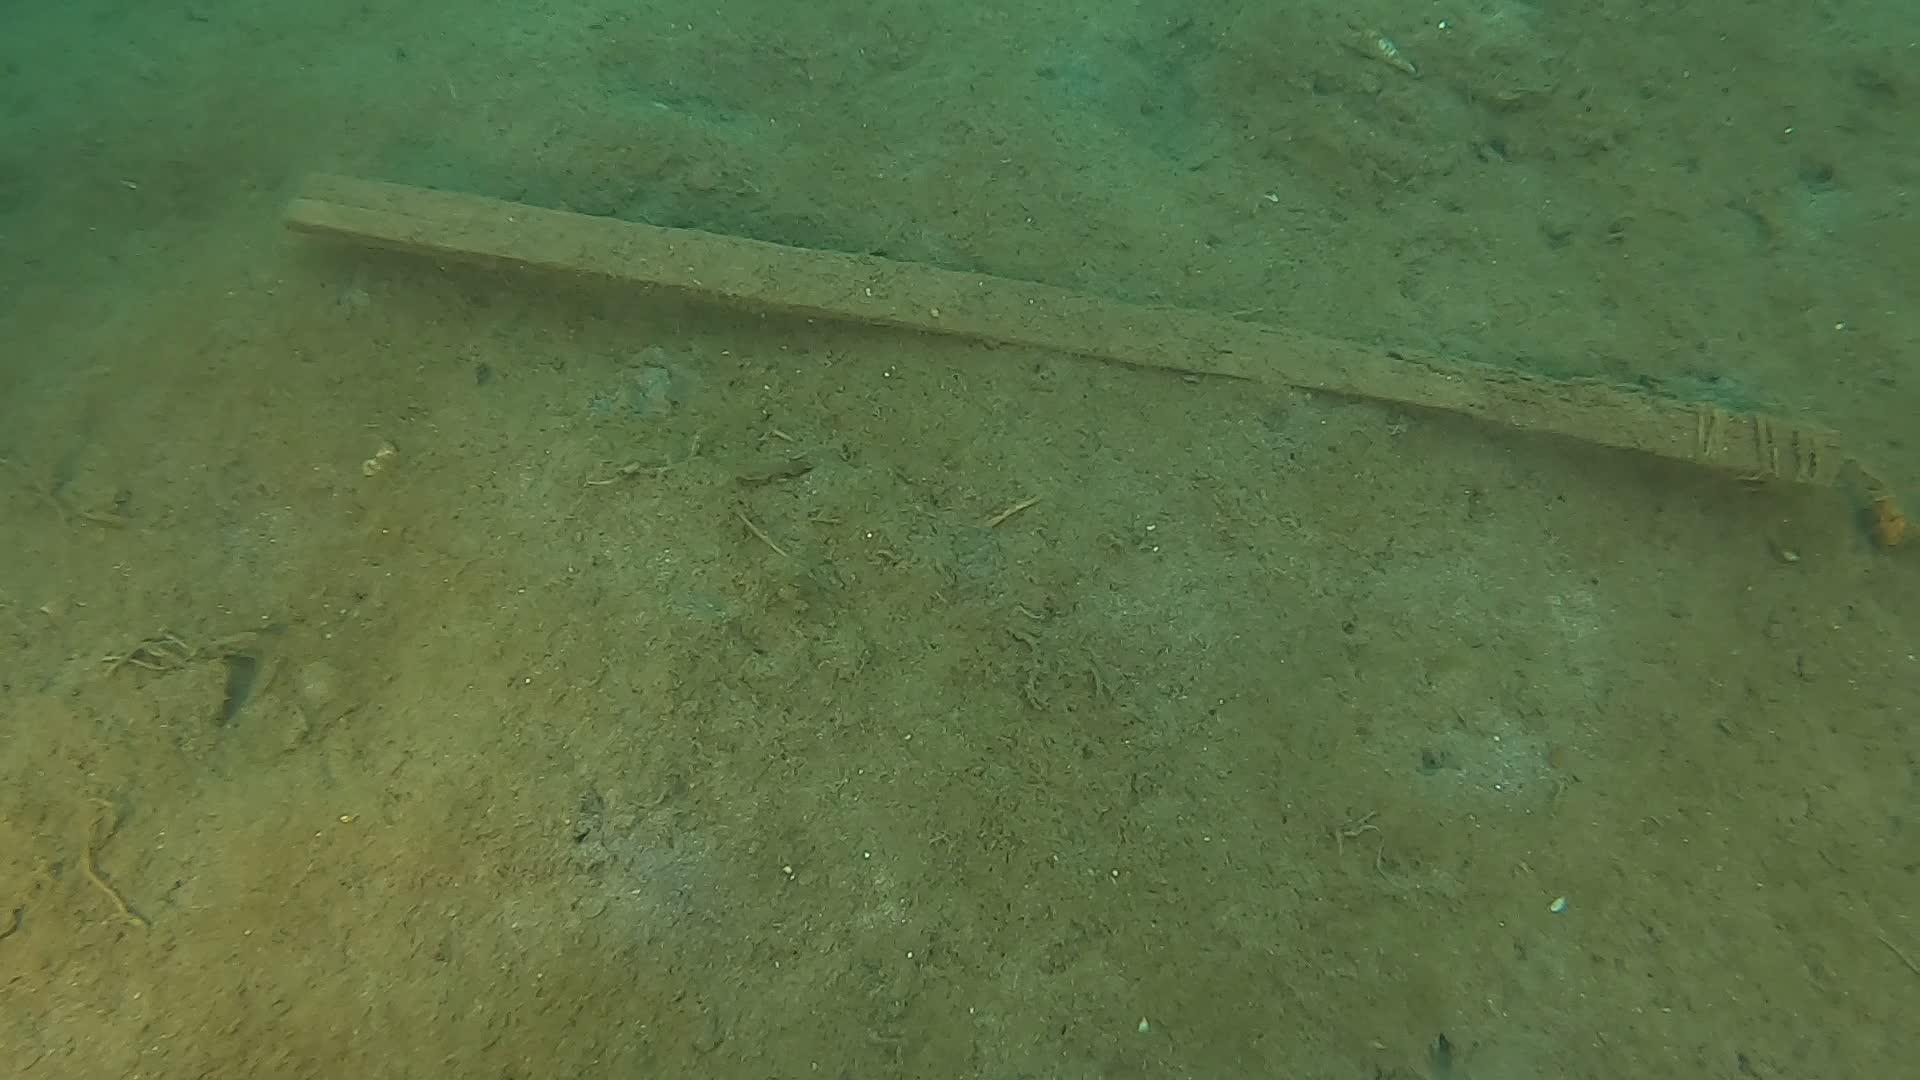wood: (278, 170, 1844, 489)
